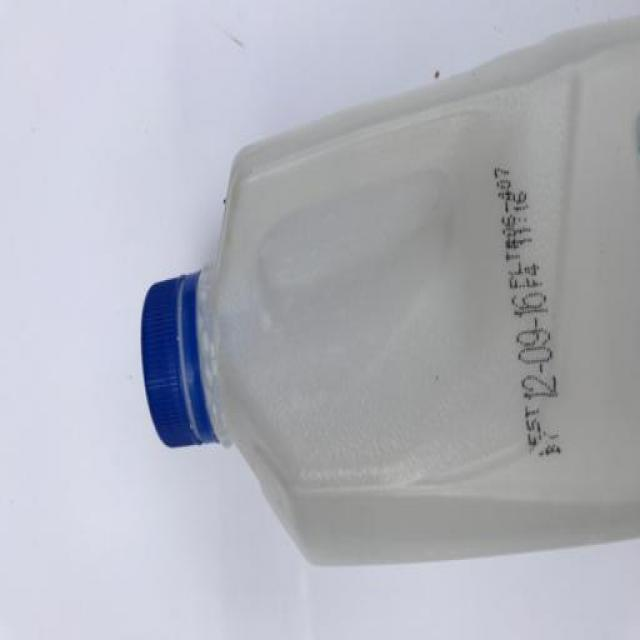plastic_bottle: (127, 49, 634, 551)
